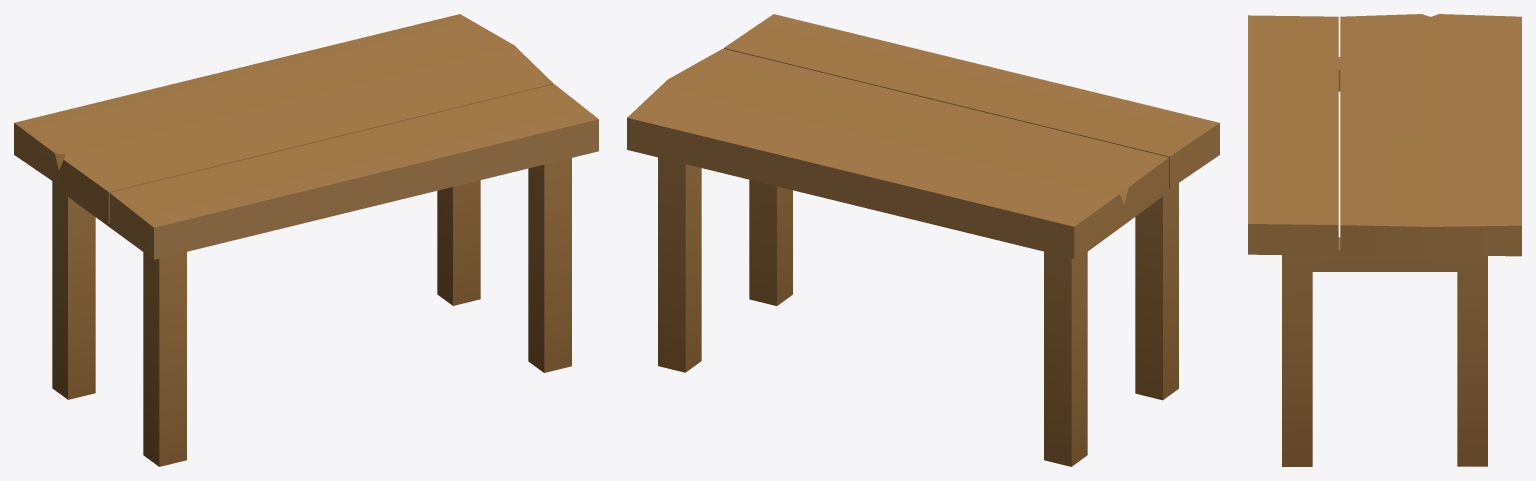
The model's file is table2.FBX.
3 renders of one model, left to right at view 1: azimuth 30°, elevation 25°; view 2: azimuth 150°, elevation 25°; view 3: azimuth 270°, elevation 25°, orthographic. The views are drawn at different scales.
Parts seen in each view (by area): view 1: table2; view 2: table2; view 3: table2.
Part boxes in pixels (x1=…): table2: x1=14, y1=14, x2=598, y2=466; table2: x1=627, y1=14, x2=1219, y2=466; table2: x1=1248, y1=14, x2=1521, y2=466.
Bounding box in the file's own units: 279 × 151 × 152.
